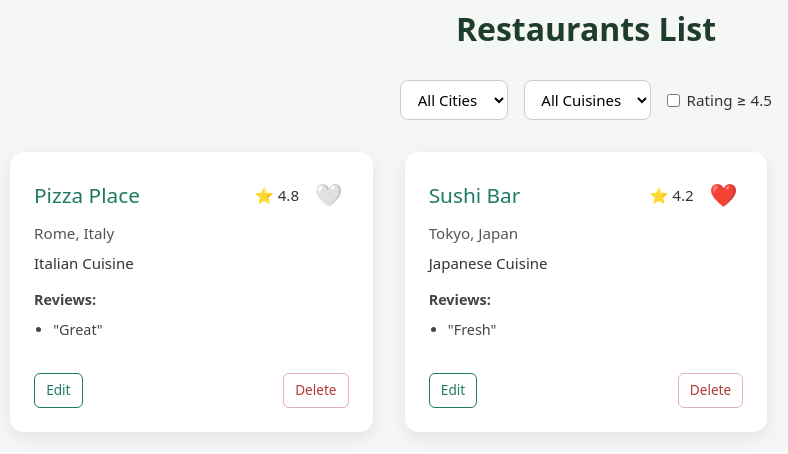
Test: RestaurantList.vue › filters restaurants by city
Select "Rome" in the 1st dropdown: (454, 100) top-left (400, 80), bottom-right (508, 120)
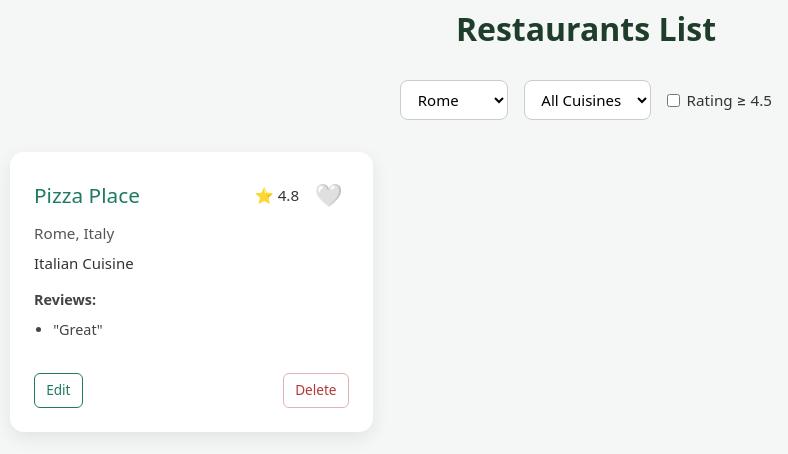
expect the text "Pizza Place" is shown: met, box top-left (34, 183), bottom-right (140, 208)
expect the text "Sushi Bar" is gone: met
